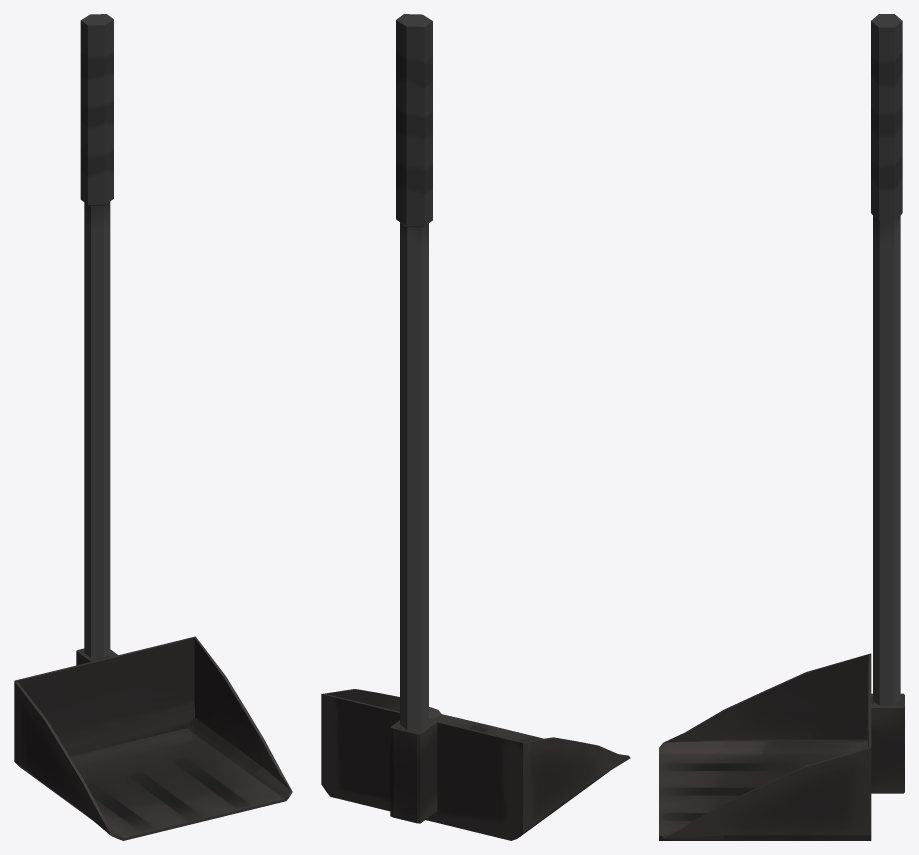
File: dustpan2.fbx
3 views of the same model, side by side, from view 1: azimuth 30°, elevation 25°; view 2: azimuth 150°, elevation 25°; view 3: azimuth 270°, elevation 25° (orthographic). The views are drawn at different scales.
Parts seen in each view (by area): view 1: dust pan -1.001, dust pan-handle.001; view 2: dust pan -1.001, dust pan-handle.001; view 3: dust pan -1.001, dust pan-handle.001.
Boxes of the visible parts, x1,y1,x2,y2 form: dust pan -1.001: (14, 636, 292, 840); dust pan-handle.001: (80, 14, 113, 657); dust pan -1.001: (321, 689, 630, 840); dust pan-handle.001: (396, 14, 432, 729); dust pan -1.001: (659, 653, 904, 840); dust pan-handle.001: (871, 14, 902, 705).
Bounding box in the file's own units: 92.01 × 350 × 100.
